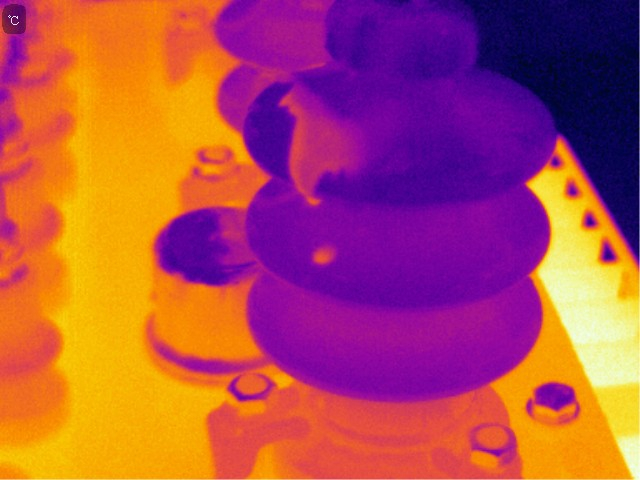Oil: (275, 82, 371, 216), (310, 240, 341, 270)
